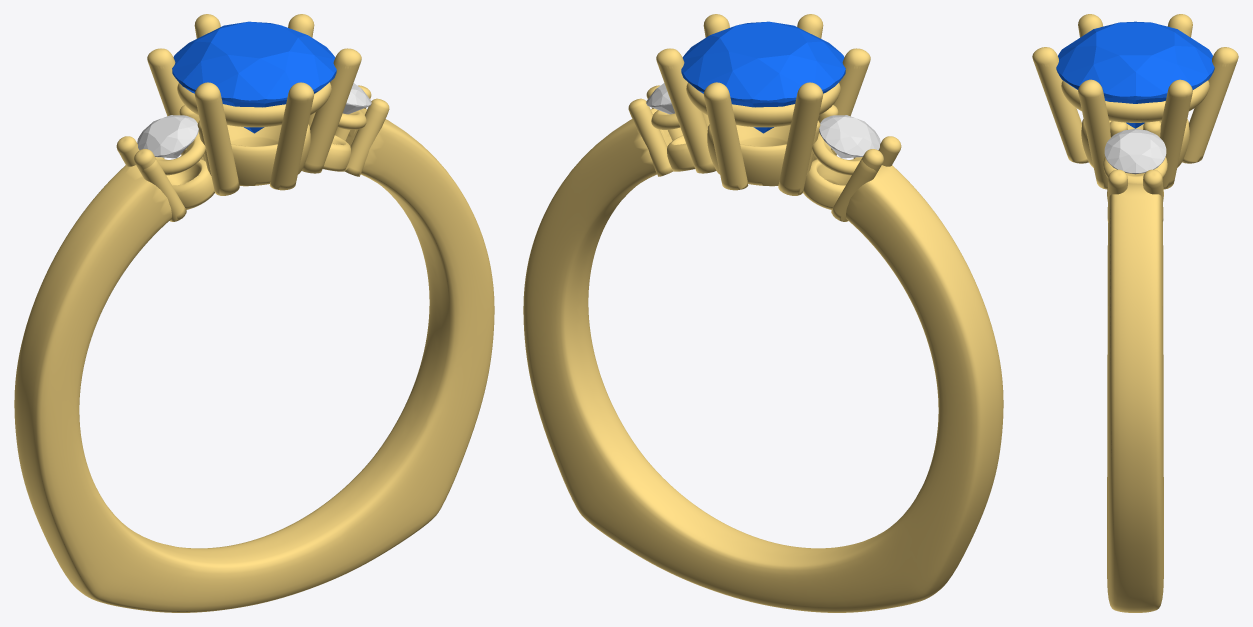
File: bluesapphire-round-yellowgold-6prong-europeanshank-2stone.glb
3 renders of one model, left to right at view 1: azimuth 30°, elevation 25°; view 2: azimuth 150°, elevation 25°; view 3: azimuth 270°, elevation 25°, orthographic. The views are drawn at different scales.
Parts seen in each view (by area): view 1: metal, stone, side.001; view 2: metal, stone, side.001; view 3: metal, stone, side.
Boxes of the visible parts, bbox=[...] form: metal: bbox=[14, 14, 494, 612]; stone: bbox=[172, 21, 336, 133]; side.001: bbox=[137, 115, 198, 158]; metal: bbox=[523, 14, 1003, 612]; stone: bbox=[681, 21, 845, 133]; side.001: bbox=[819, 115, 880, 158]; metal: bbox=[1032, 14, 1238, 612]; stone: bbox=[1056, 21, 1214, 128]; side: bbox=[1104, 129, 1166, 174].
Size of the model in its own units: 20.71 by 23.81 by 8.33.
